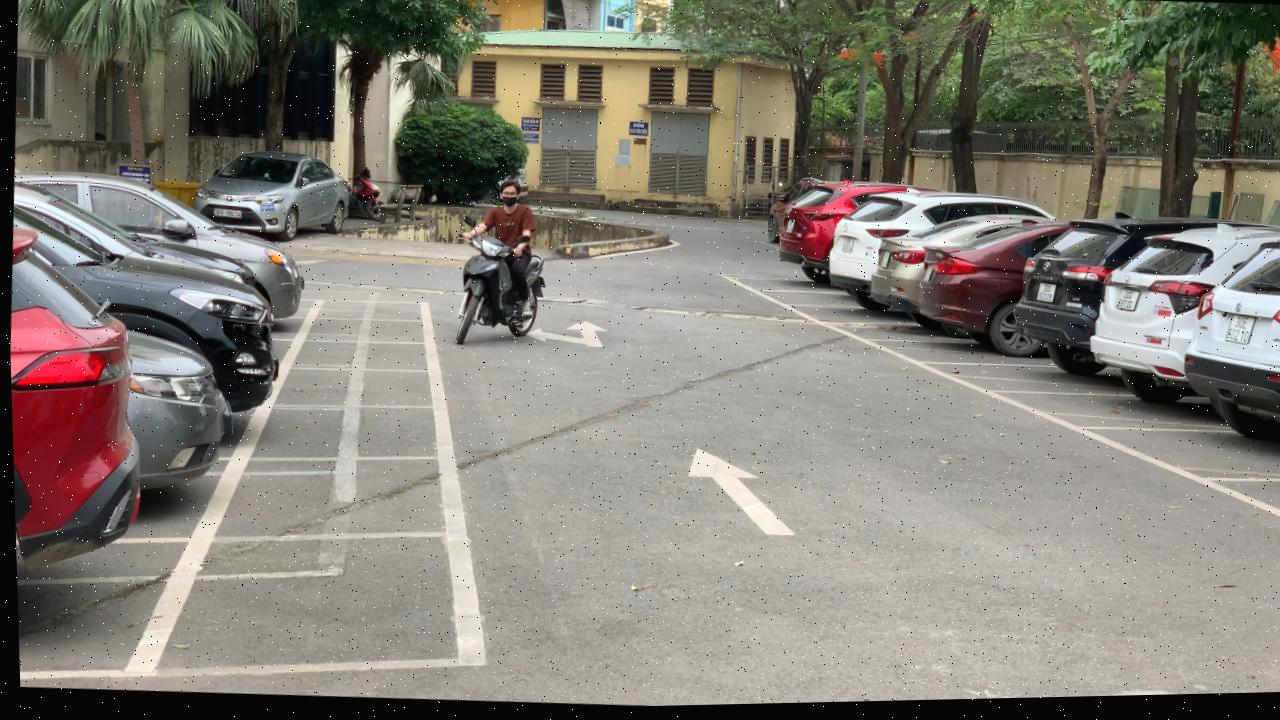motorcyclist: (447, 178, 551, 352)
